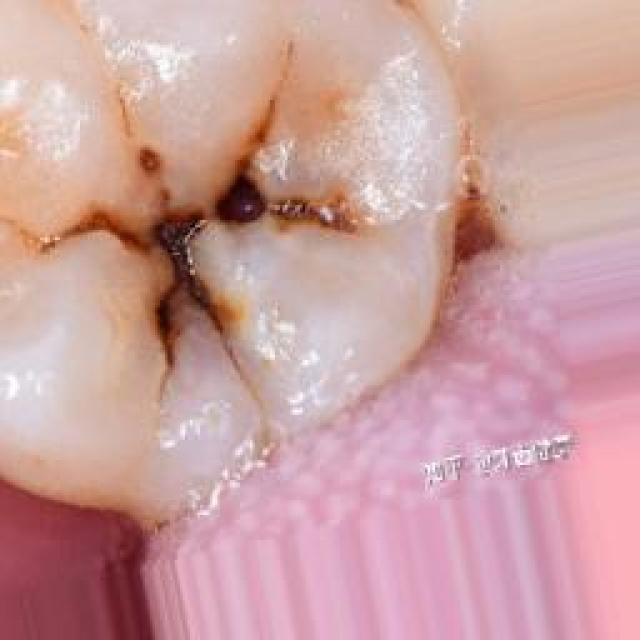decay: (55, 90, 360, 382)
